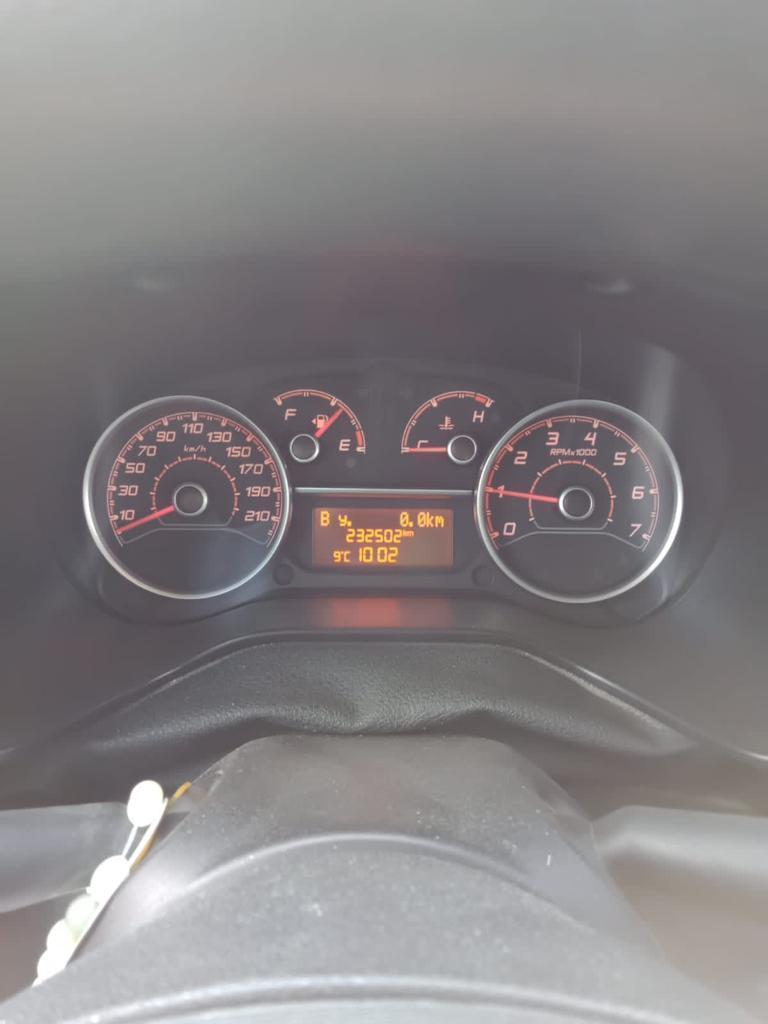,: (347, 519, 352, 527), (408, 520, 413, 527)
0: (377, 545, 387, 562), (416, 511, 426, 528), (383, 527, 393, 543), (363, 546, 372, 562), (399, 511, 408, 527)
1: (358, 546, 362, 563)
2: (387, 546, 398, 562), (345, 528, 354, 543), (365, 528, 374, 542), (393, 528, 401, 543)
3: (356, 527, 364, 542)
5: (374, 528, 383, 543)
9: (333, 549, 340, 562)
X: (320, 510, 329, 526), (426, 511, 434, 527), (338, 513, 346, 527), (435, 515, 444, 527), (344, 549, 350, 562), (406, 530, 414, 536), (402, 528, 406, 536)
odometer: (307, 502, 457, 572)
